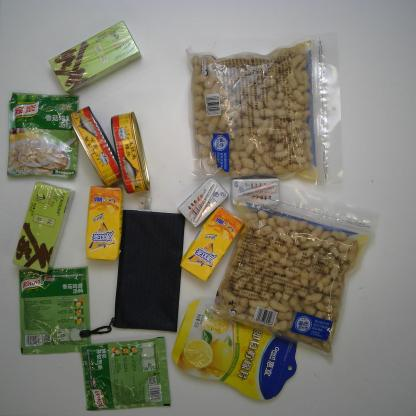Canned Food: (67, 102, 126, 188), (106, 109, 161, 197)
Dried Food: (210, 194, 384, 357), (185, 27, 354, 190)
Dried Fruit: (165, 294, 306, 405)
Drink: (178, 204, 247, 284), (79, 180, 131, 266)
Instant Drink: (44, 18, 151, 97), (9, 176, 73, 279)
Milk: (178, 172, 232, 230), (224, 178, 287, 209)
Seasoner: (75, 332, 177, 413), (15, 261, 96, 359), (5, 89, 82, 182)
Stationery: (80, 206, 192, 336)
